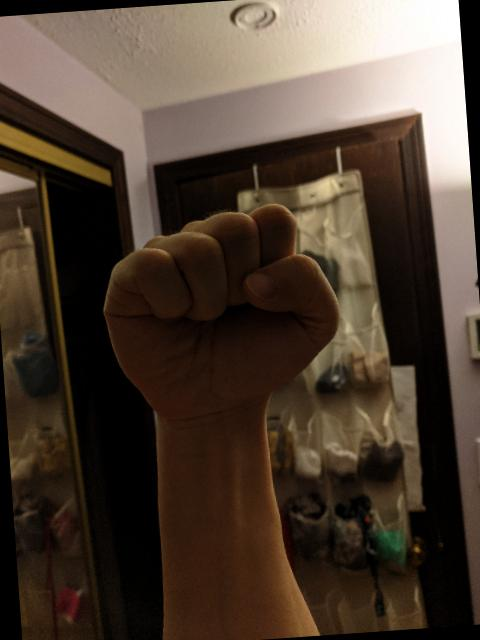S: (90, 194, 350, 426)
